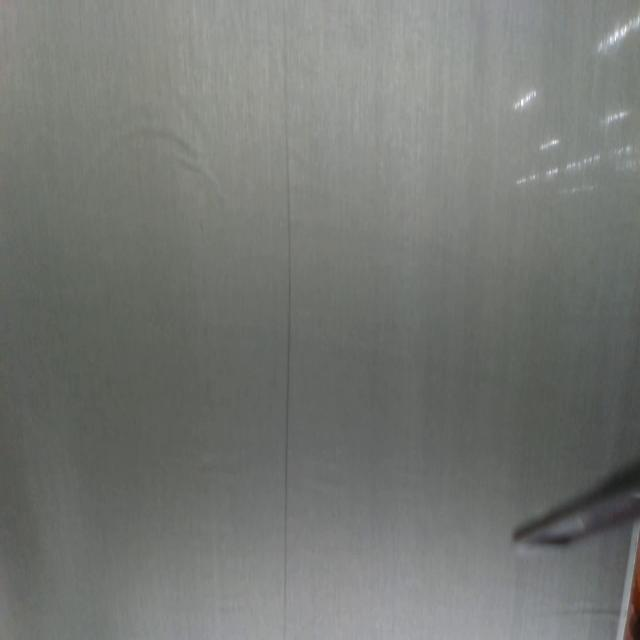crease: (280, 1, 293, 640)
